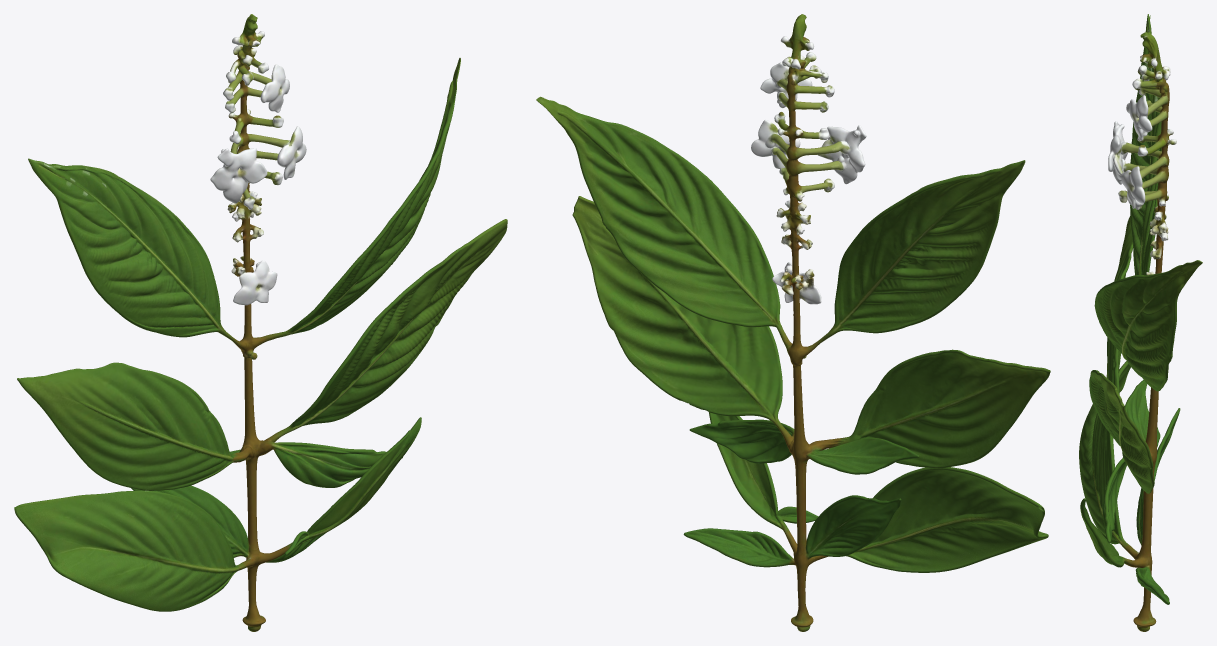
The model's file is gonzalagunia-panamensis.fbx.
3 views of the same model, side by side, from view 1: azimuth 30°, elevation 25°; view 2: azimuth 150°, elevation 25°; view 3: azimuth 270°, elevation 25° (orthographic). The views are drawn at different scales.
Parts seen in each view (by area): view 1: tripo_node_1944b116; view 2: tripo_node_1944b116; view 3: tripo_node_1944b116.
Boxes of the visible parts, bbox=[...] form: tripo_node_1944b116: bbox=[14, 14, 507, 631]; tripo_node_1944b116: bbox=[536, 14, 1050, 631]; tripo_node_1944b116: bbox=[1079, 14, 1202, 631].
Bounding box in the file's own units: 81.91 × 99.83 × 18.7.
Materials: 1 (1 with a texture image).
